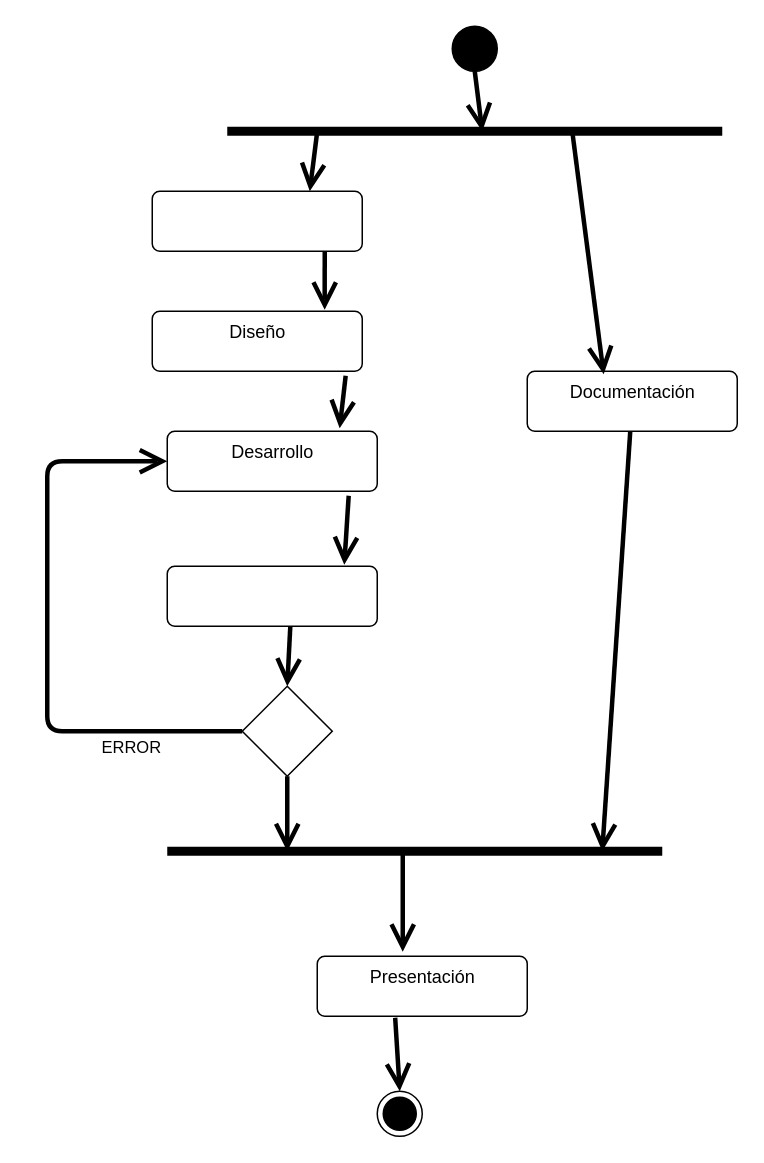
This 764x1163 diagram has some shape labels left out. The shapes that lost their labels are listed below. From the top down, each one's box as (x1, y1, x2, y2) in pixels, then its label:
(151, 190, 362, 251): Análisis
(166, 565, 377, 626): Prueba
